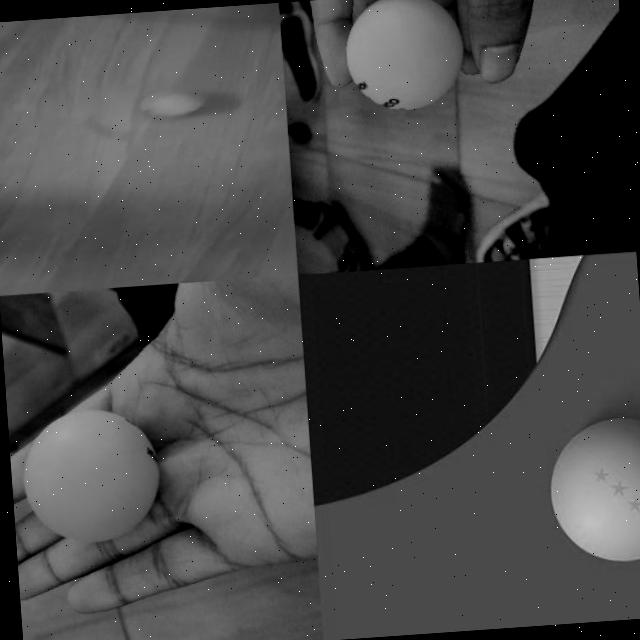ping-pong-ball: (18, 405, 162, 547), (543, 415, 640, 564), (340, 0, 464, 114), (138, 88, 204, 118)
